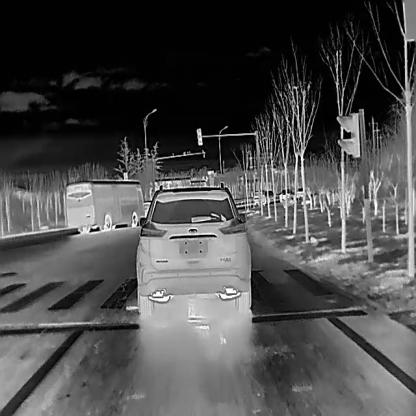bus: (62, 178, 143, 234)
car: (134, 182, 252, 314), (279, 188, 294, 202), (252, 190, 265, 206), (264, 189, 274, 204), (295, 186, 306, 198)
